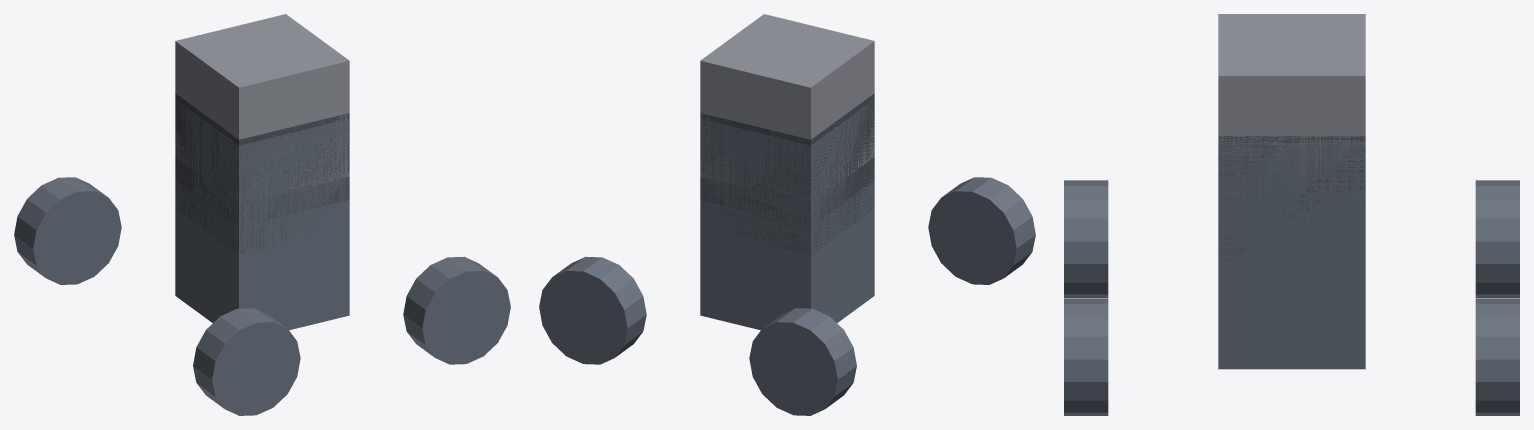
Rendered from veh_car_suv_dark.glb.
The picture shows the model from 3 angles, left to right: view 1: azimuth 30°, elevation 25°; view 2: azimuth 150°, elevation 25°; view 3: azimuth 270°, elevation 25°; orthographic projection. The views are drawn at different scales.
Visible parts, largest first — view 1: world; view 2: world; view 3: world.
Part boxes in pixels (left/top/right/bottom): world: left=14, top=14, right=510, bottom=415; world: left=539, top=14, right=1035, bottom=415; world: left=1064, top=14, right=1519, bottom=415.
Bounding box in the file's own units: 2.7 × 2.3 × 3.1.
